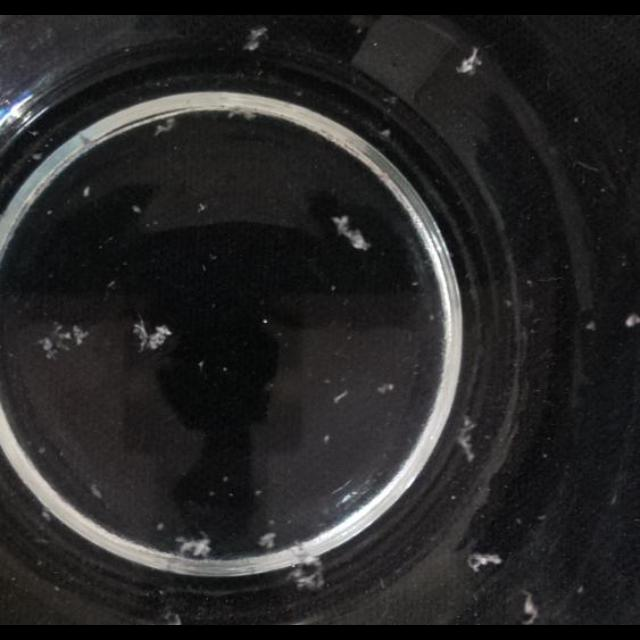Fibre: (36, 320, 92, 358), (331, 214, 371, 252), (132, 318, 172, 354), (176, 533, 214, 559), (456, 417, 478, 461), (466, 552, 502, 574), (456, 46, 482, 74), (242, 25, 268, 51), (520, 594, 540, 624), (154, 118, 176, 136), (257, 532, 277, 550), (376, 382, 396, 394), (90, 484, 104, 501), (378, 128, 392, 138)
microbeads: (291, 560, 325, 592), (161, 611, 181, 625), (624, 312, 640, 328), (333, 390, 349, 404), (586, 321, 596, 332), (196, 203, 206, 213), (132, 205, 142, 215), (107, 280, 117, 290), (83, 185, 91, 197), (198, 360, 206, 370), (323, 434, 331, 444), (156, 522, 164, 532), (221, 475, 229, 483), (255, 489, 263, 497), (572, 116, 580, 124), (329, 284, 336, 292), (449, 494, 456, 501), (222, 366, 228, 374), (412, 280, 418, 288), (262, 318, 268, 324)
